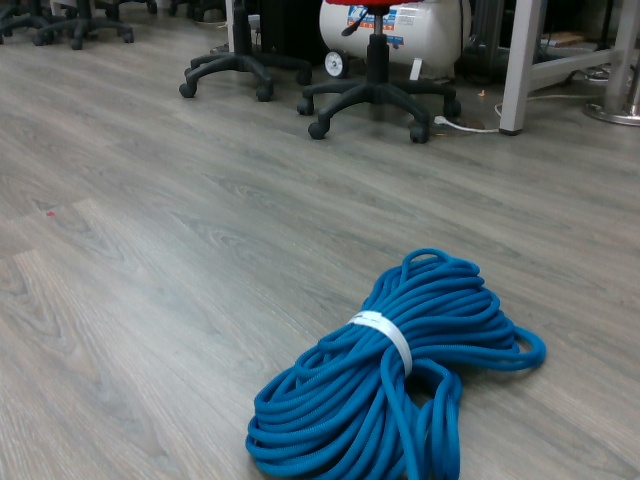rope: (242, 243, 552, 480)
